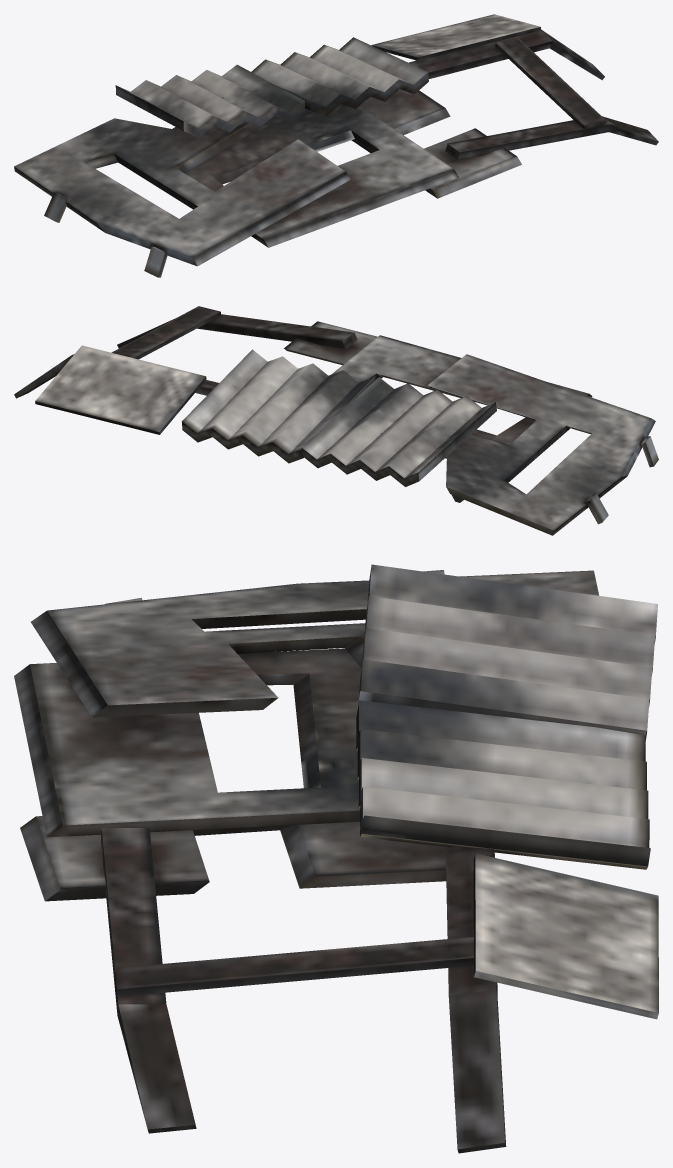
The model's file is CavalierWindshieldArmor_WorldItem.fbx.
3 renders of one model, top to bottom at view 1: azimuth 30°, elevation 25°; view 2: azimuth 150°, elevation 25°; view 3: azimuth 270°, elevation 25°, orthographic. The views are drawn at different scales.
Parts seen in each view (by area): view 1: WindshieldArmor_obj; view 2: WindshieldArmor_obj; view 3: WindshieldArmor_obj.
Part boxes in pixels (left/top/right/bottom): WindshieldArmor_obj: left=14, top=14, right=658, bottom=277; WindshieldArmor_obj: left=14, top=306, right=658, bottom=535; WindshieldArmor_obj: left=14, top=564, right=658, bottom=1153.
Size of the model in its own units: 1.7 by 0.2441 by 0.8461.
